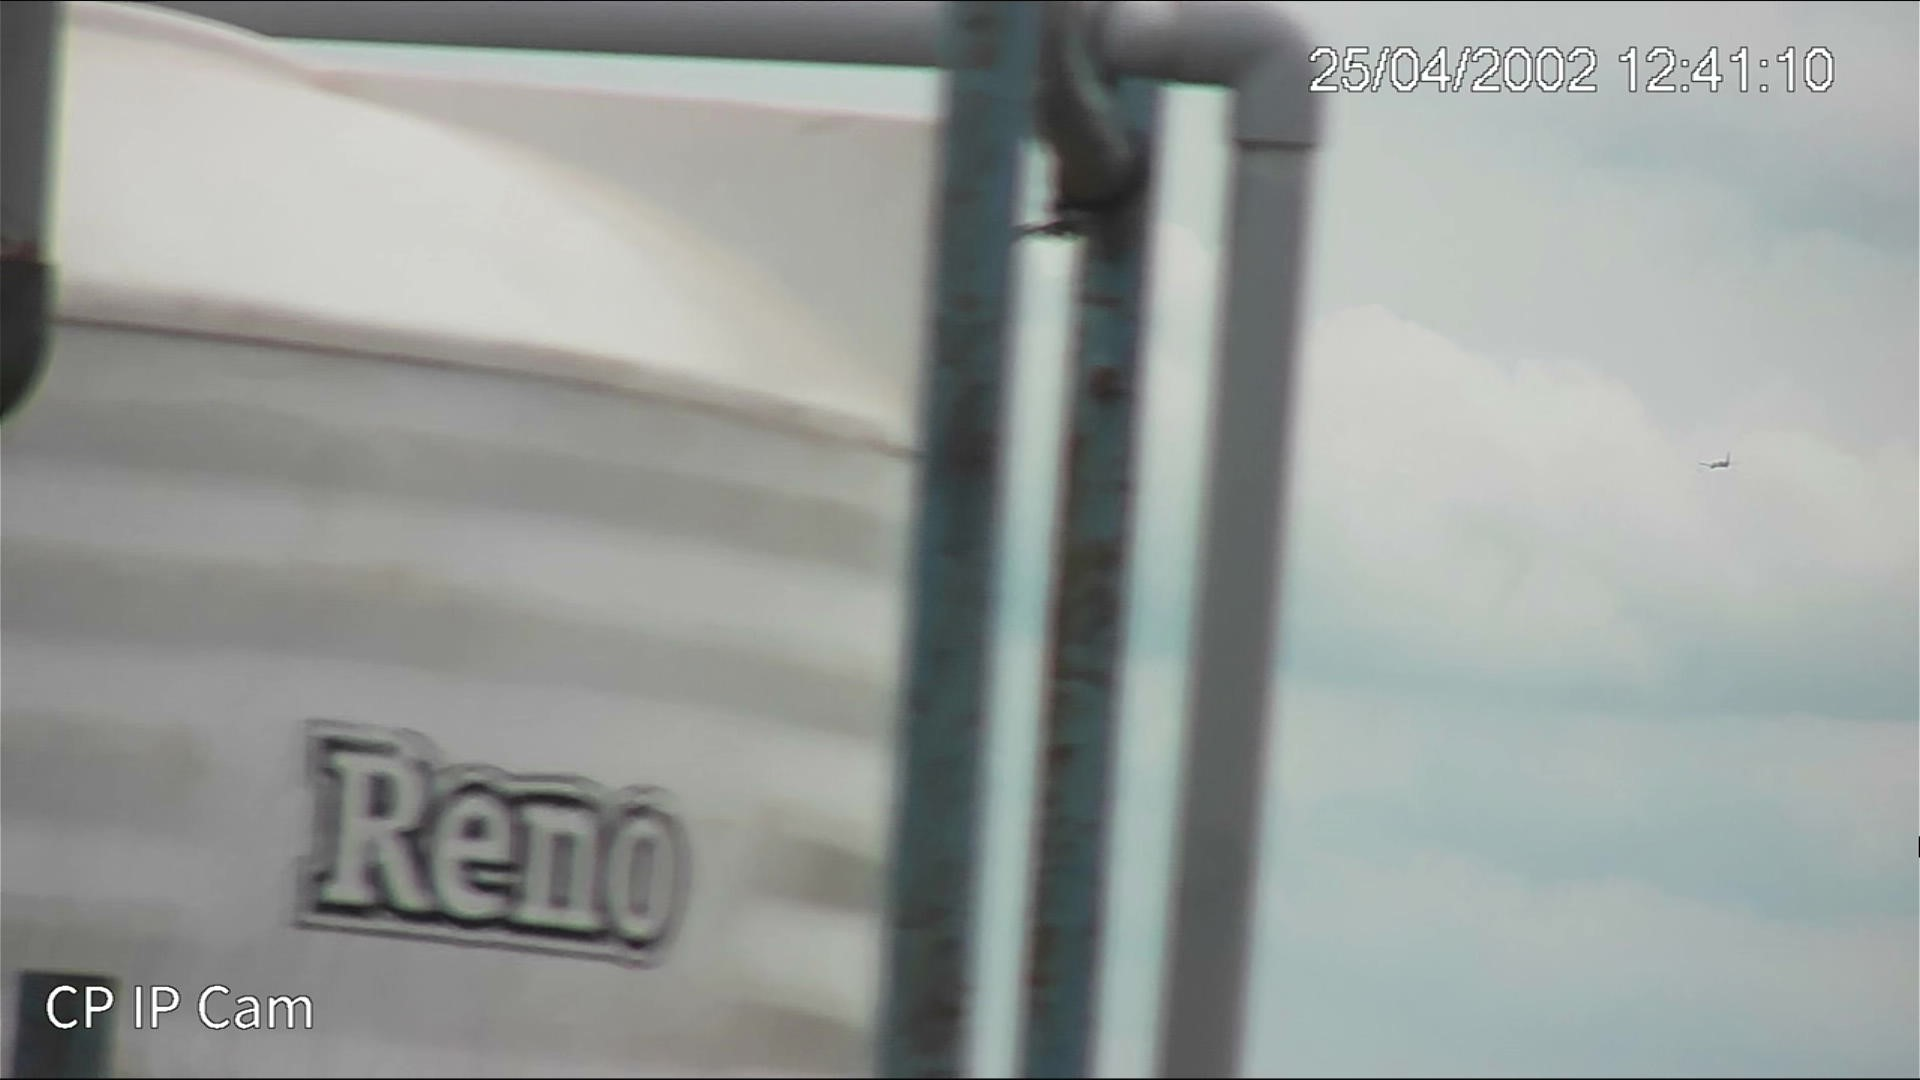SU_30: (1702, 456, 1734, 472)
